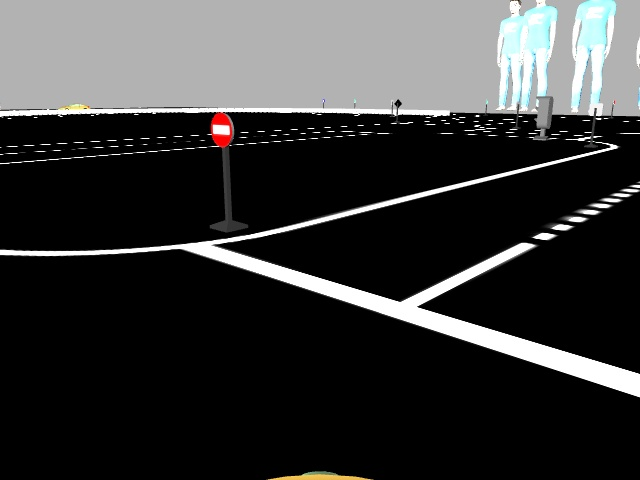NoEntry: (207, 112, 234, 149)
